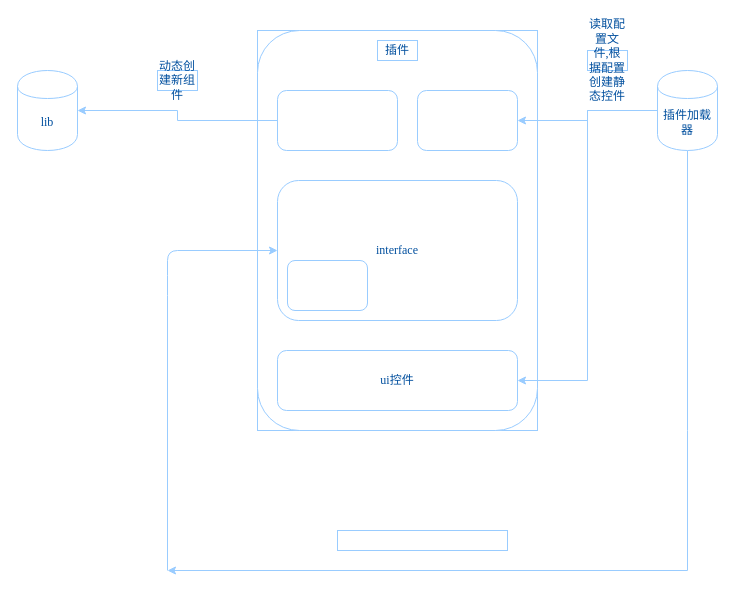
This 735x596 diagram has some shape labels left out. The shapes that lost their labels are listed below. From the top down, each one's centre as x and y in pixels, then its label:
At [337,120]: "主程序".
At [467,120]: "配置文件".
At [327,285]: "插入器(ui_inserters)".
At [422,540]: "将此插件定义的用于插入自身的插入器读取入Loader的Interface和其中的ui_inserters,供自己及之后的插件使用".
